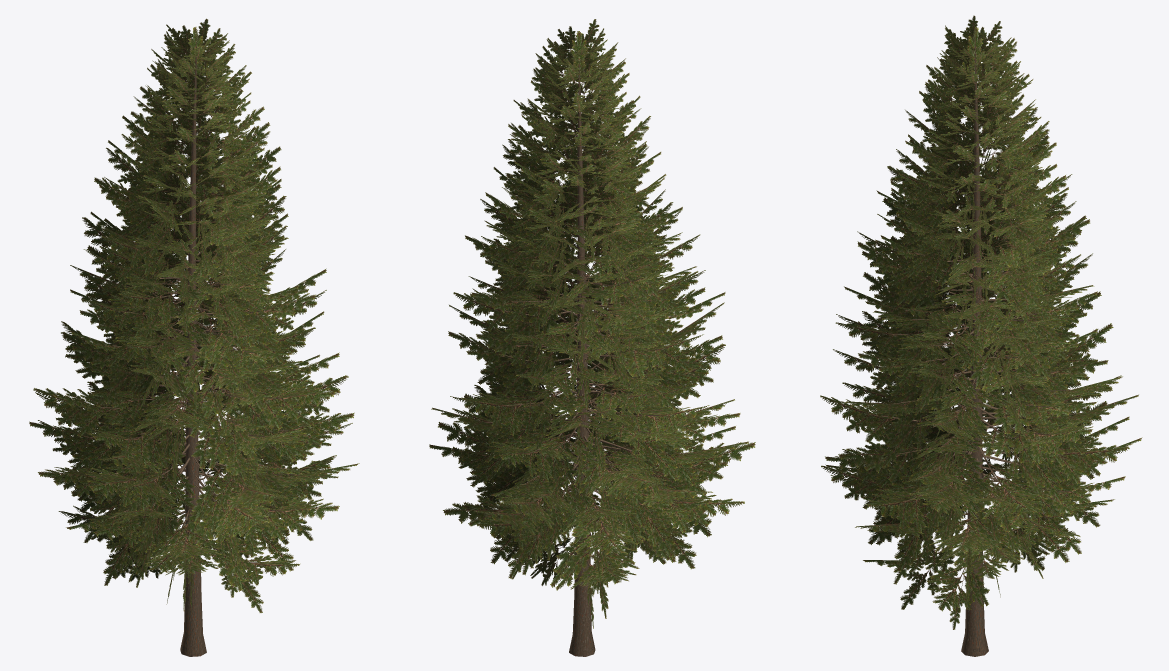
File: fir_medium_a_lod1.gltf
3 renders of one model, left to right at view 1: azimuth 30°, elevation 25°; view 2: azimuth 150°, elevation 25°; view 3: azimuth 270°, elevation 25°, orthographic.
Visible parts, largest first — view 1: fir_medium_a_LOD1; view 2: fir_medium_a_LOD1; view 3: fir_medium_a_LOD1.
Part boxes in pixels (x1,y1,x2,y2): fir_medium_a_LOD1: (29, 18, 359, 656); fir_medium_a_LOD1: (429, 19, 755, 656); fir_medium_a_LOD1: (820, 15, 1142, 656).
Bounding box in the file's own units: 10.7 × 20.48 × 10.4.
2 materials, 2 textured.
